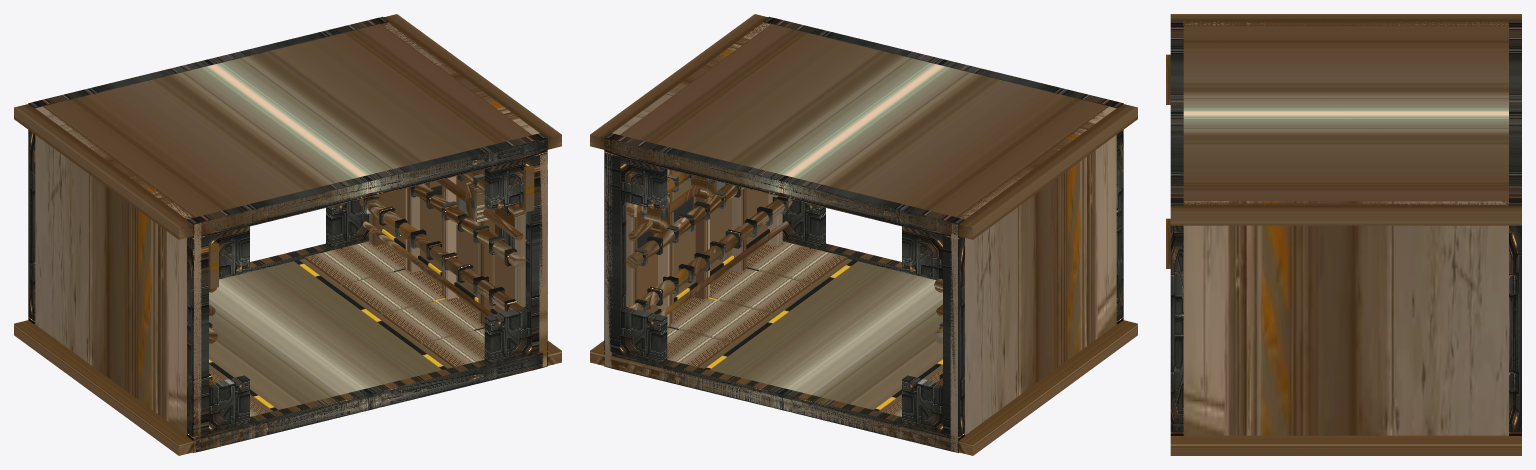
The model's file is hangar_koridor_ankora.glb.
The picture shows the model from 3 angles, left to right: view 1: azimuth 30°, elevation 25°; view 2: azimuth 150°, elevation 25°; view 3: azimuth 270°, elevation 25°; orthographic projection. The views are drawn at different scales.
Parts seen in each view (by area): view 1: LOD0_koridor; view 2: LOD0_koridor; view 3: LOD0_koridor.
Boxes of the visible parts, x1=… form: LOD0_koridor: x1=14, y1=14, x2=561, y2=455; LOD0_koridor: x1=590, y1=14, x2=1137, y2=455; LOD0_koridor: x1=1166, y1=14, x2=1521, y2=455.
Size of the model in its own units: 10.2 by 5.84 by 7.7.
Materials: 1 (1 with a texture image).
